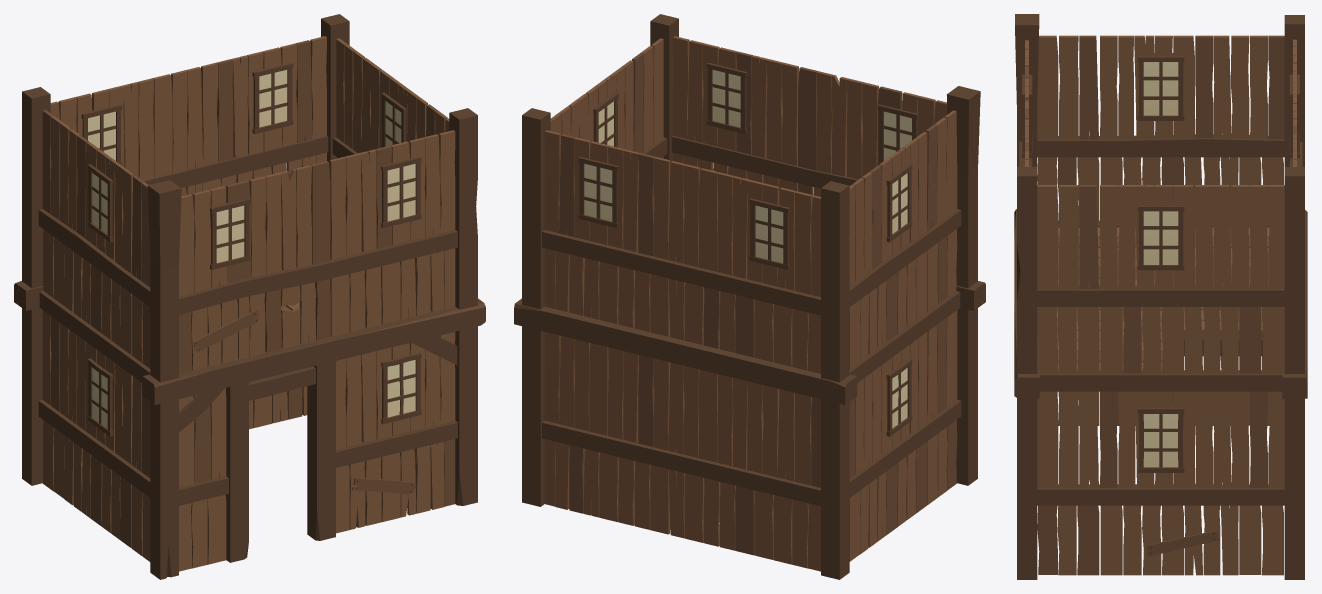
The model's file is House_02.fbx.
The picture shows the model from 3 angles, left to right: view 1: azimuth 30°, elevation 25°; view 2: azimuth 150°, elevation 25°; view 3: azimuth 270°, elevation 25°; orthographic projection. The views are drawn at different scales.
Visible parts, largest first — view 1: House_02_LOD0; view 2: House_02_LOD0; view 3: House_02_LOD0.
Boxes of the visible parts, x1,y1,x2,y2 form: House_02_LOD0: (14,14,485,579); House_02_LOD0: (514,14,985,579); House_02_LOD0: (1014,14,1307,579).
Size of what is drawn, in the model's own units: 4.43 by 4.95 by 3.26.
